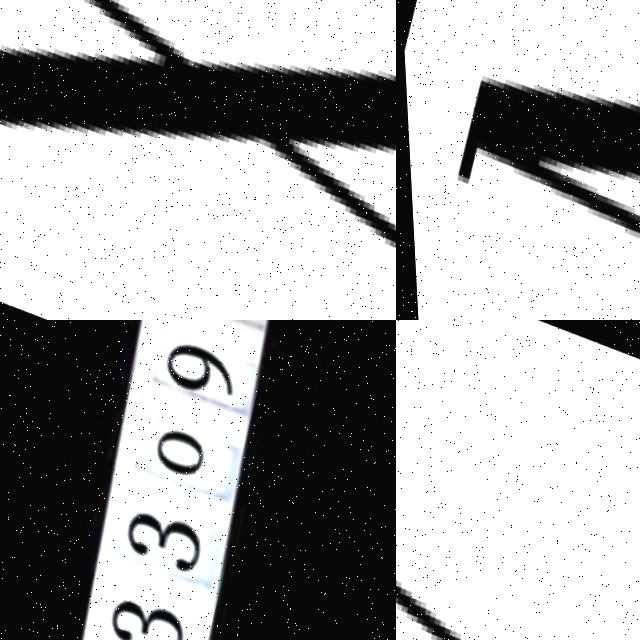0: (122, 406, 223, 492)
3: (99, 486, 213, 583), (82, 575, 193, 640)
9: (139, 320, 250, 410)
N: (398, 0, 640, 320)
X: (0, 0, 396, 320)
Y: (396, 380, 640, 640)
